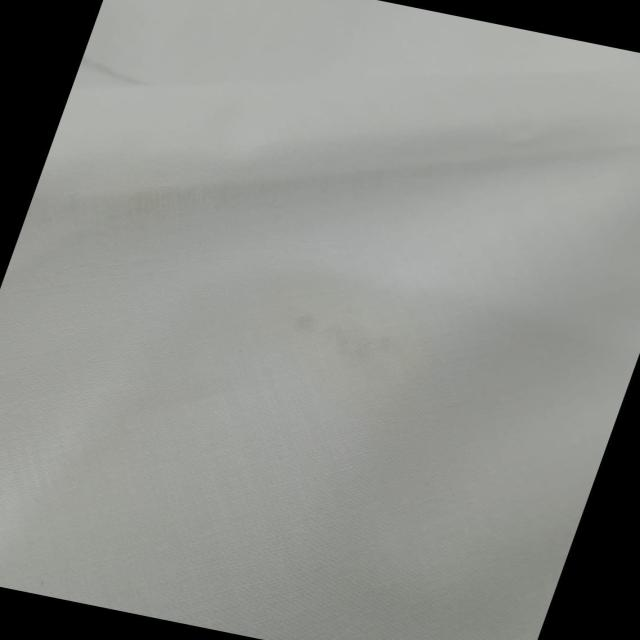stain: (263, 291, 430, 373)
